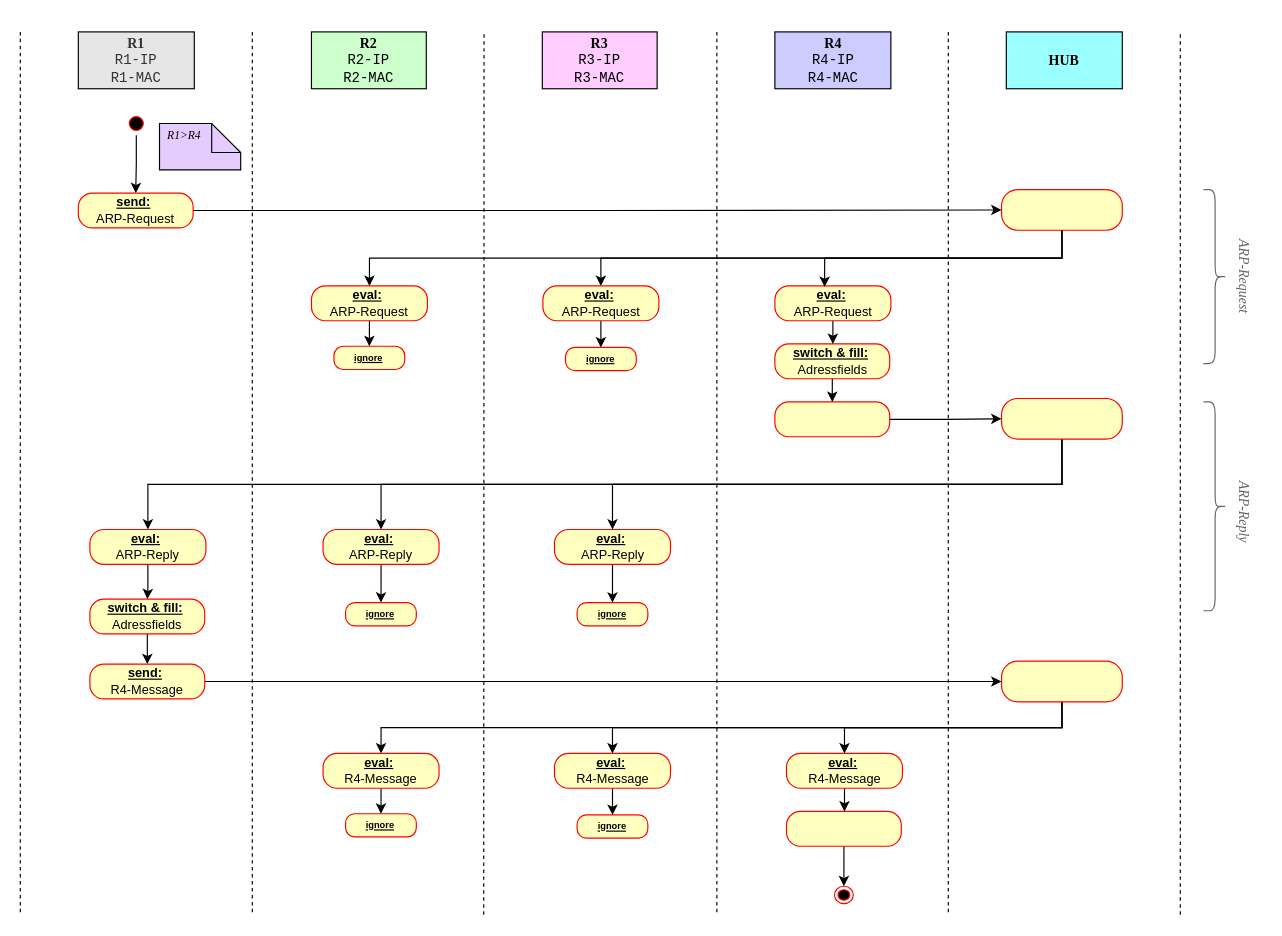
The diagram is 1282 pixels wide and 936 high, and some of its shapes have lost their labels. Here are the shapes that lost their labels. From the top down, the centre of each, then its label:
At (x=1061, y=209): "forward: ARP-Request".
At (x=832, y=419): "send: ARP-Reply".
At (x=1061, y=418): "forward: ARP-Reply".
At (x=1061, y=681): "forward: R4-Message".
At (x=843, y=828): "react: however you must".
